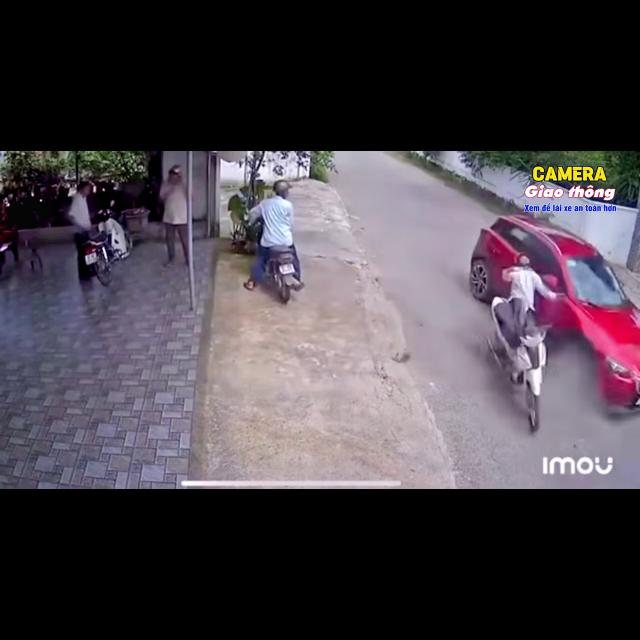car: (469, 215, 639, 414)
motorcycle: (487, 297, 549, 431), (84, 210, 132, 285), (264, 246, 302, 304), (265, 246, 300, 304)
